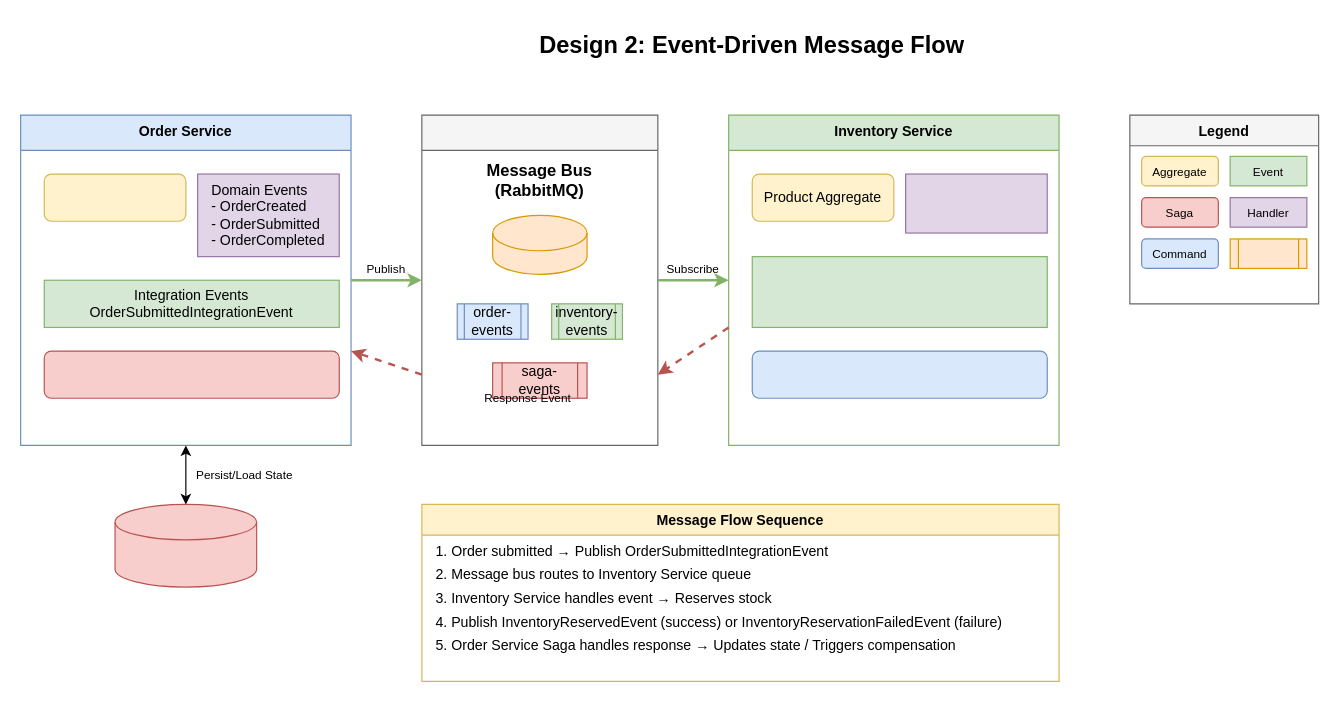
Image size: 1339x702. Some labels were removed from this diagram. Here are the shapes that lost their labels. From the top down, the centre of each, then its label:
pixel 114 197: Order Aggregate
pixel 975 203: Event Handler OrderSubmittedHandler
pixel 539 244: Exchange
pixel 1268 253: Queue
pixel 899 291: Integration Events InventoryReservedEvent InventoryReservationFailedEvent
pixel 191 374: OrderProcessingSaga
pixel 899 374: ReserveInventoryCommand
pixel 185 545: Saga State Store (MongoDB)
